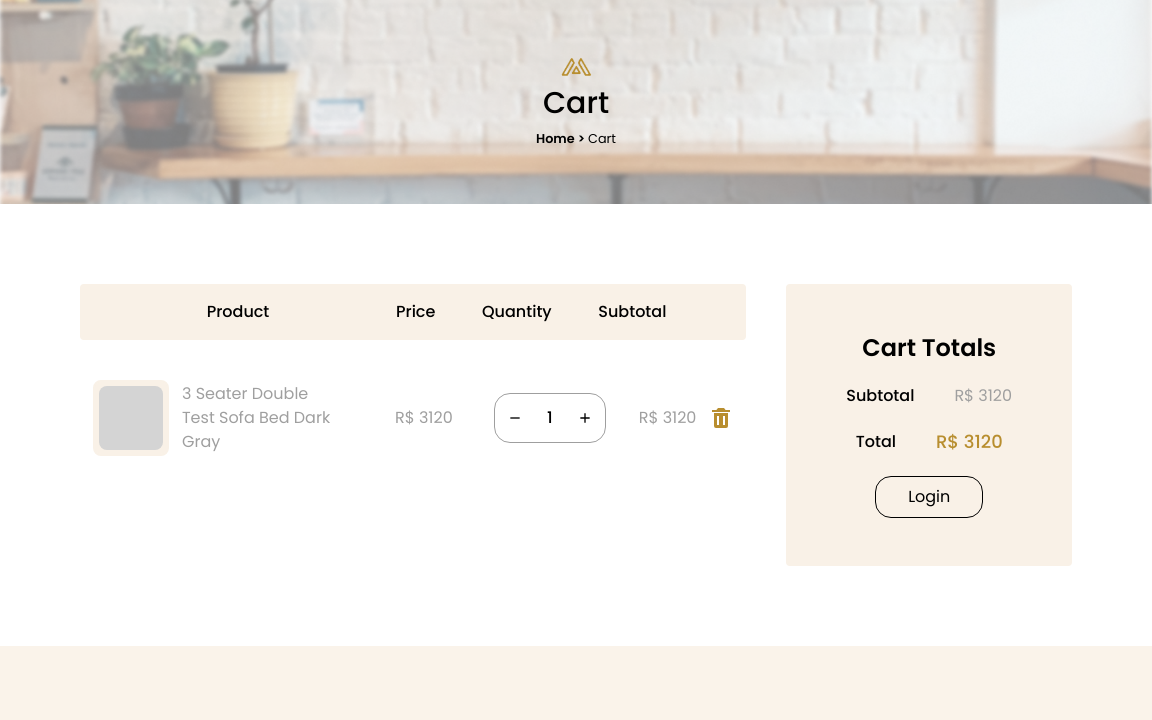
Test: <Cart /> › should decrease an item quantity when clicking in '-' icon
Click the element with test id "increaseIcon" at (585, 418), box [577,410,593,426]
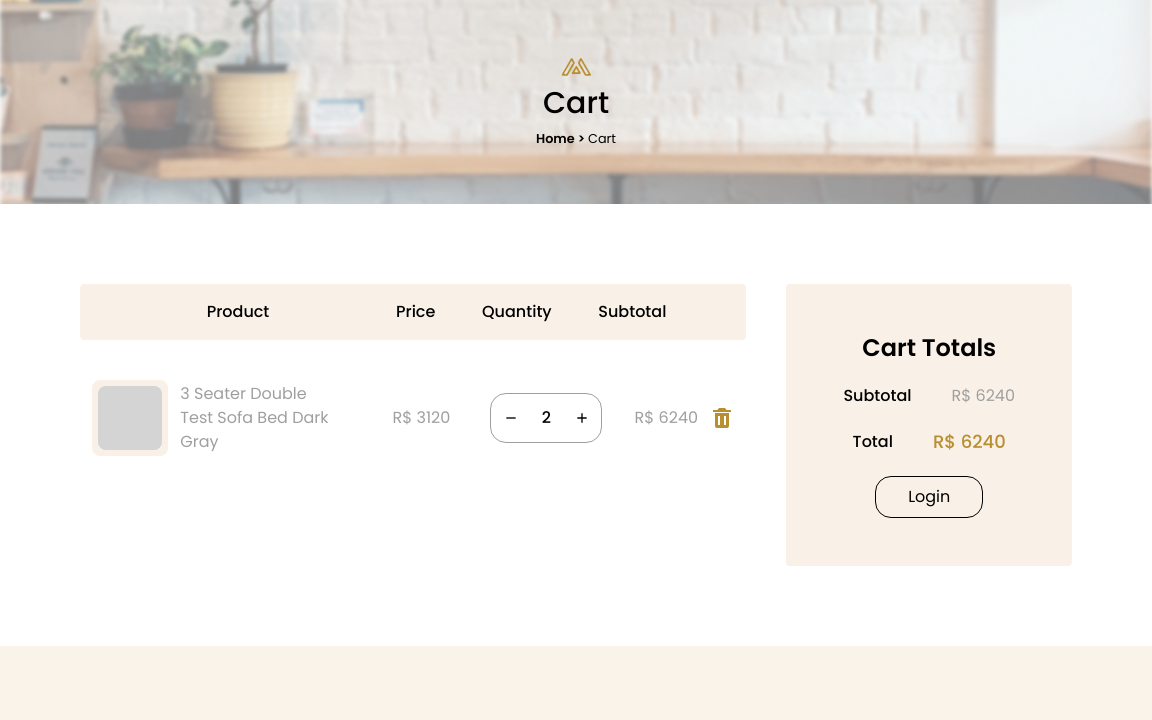
Click the element with test id "decreaseIcon" at (511, 418), box [503,410,519,426]
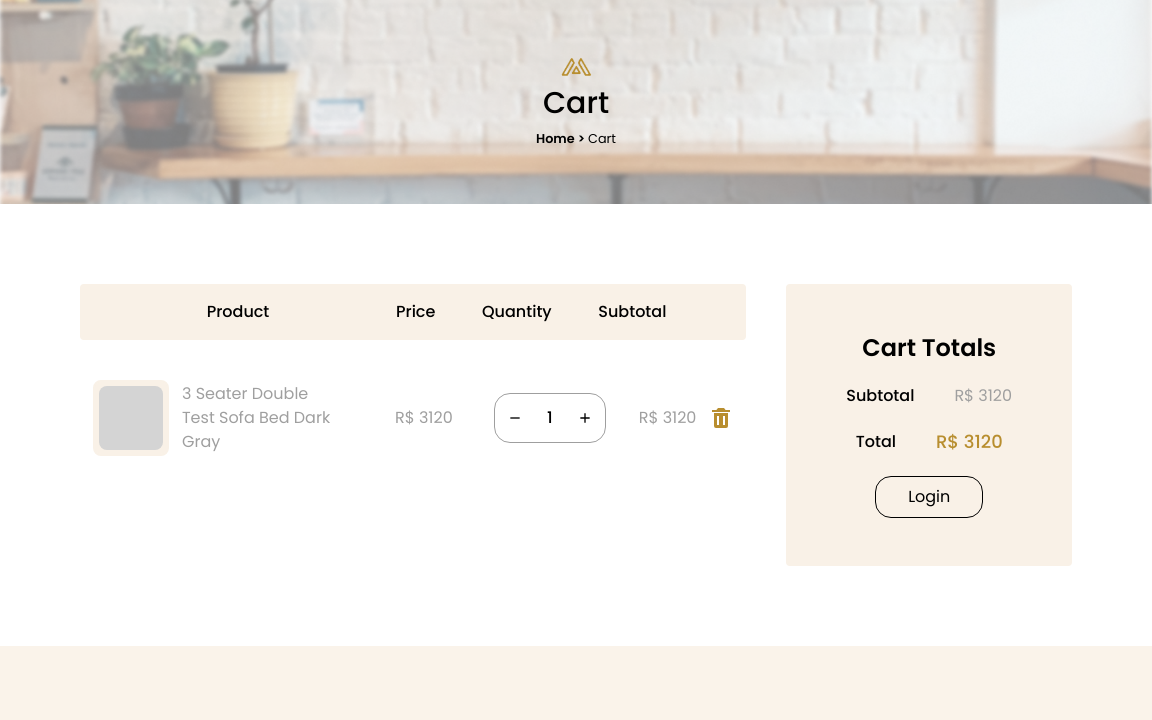
Expected: the text with test id "cartQuantity" reads "1", [547,406,552,429]
